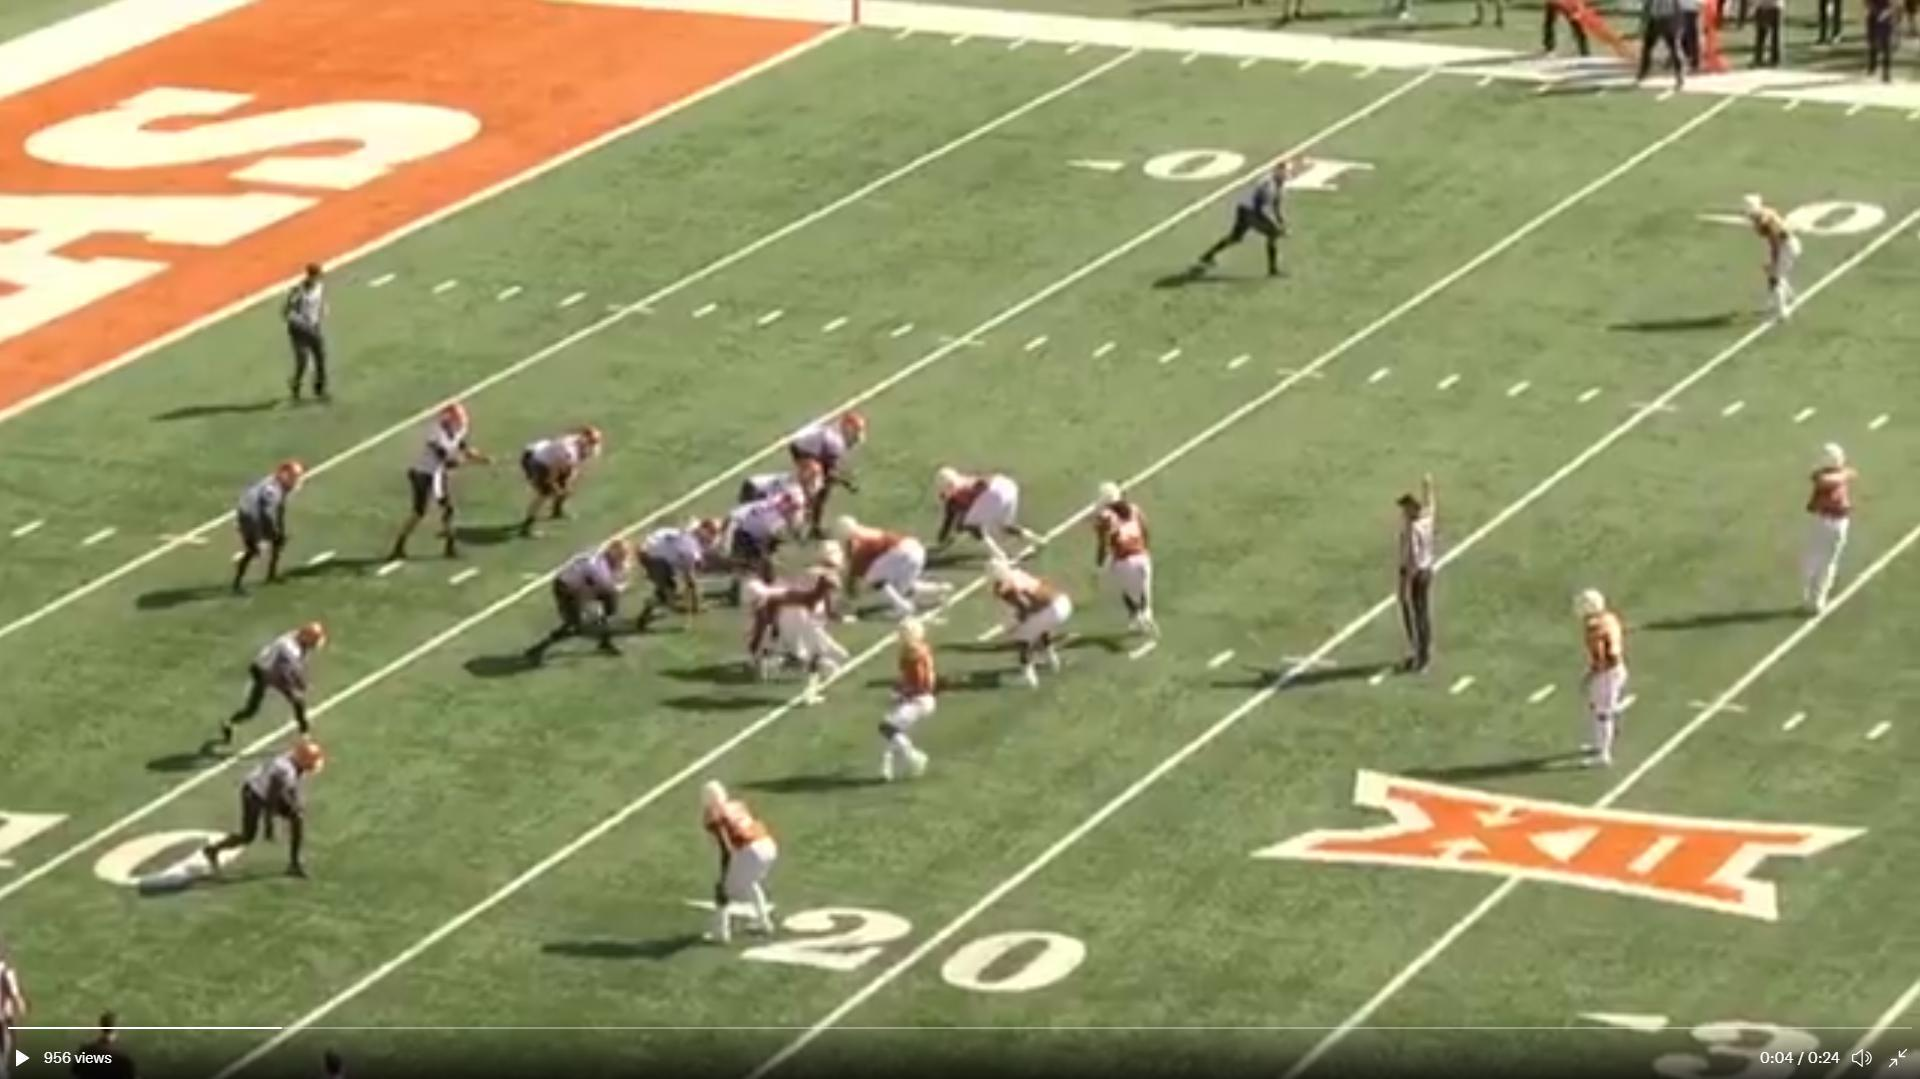player: (200, 735, 326, 888), (682, 772, 779, 949), (399, 400, 487, 577), (758, 533, 846, 709), (214, 617, 329, 751), (870, 599, 942, 788), (1194, 155, 1300, 279), (1578, 581, 1644, 774), (933, 465, 1044, 575), (538, 538, 630, 669), (226, 455, 306, 602), (1803, 437, 1865, 620), (738, 575, 849, 676), (996, 555, 1074, 696), (785, 407, 870, 536), (524, 419, 614, 540), (1096, 476, 1160, 642), (834, 517, 925, 628), (636, 520, 716, 637), (722, 489, 803, 604), (1745, 188, 1809, 327), (732, 466, 821, 551)
ref: (1398, 472, 1461, 679), (285, 253, 341, 413), (1617, 0, 1703, 101)
